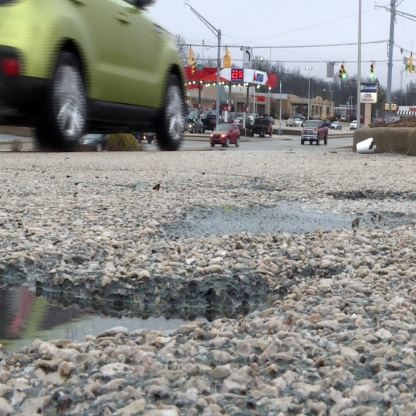pothole: (1, 241, 317, 374)
